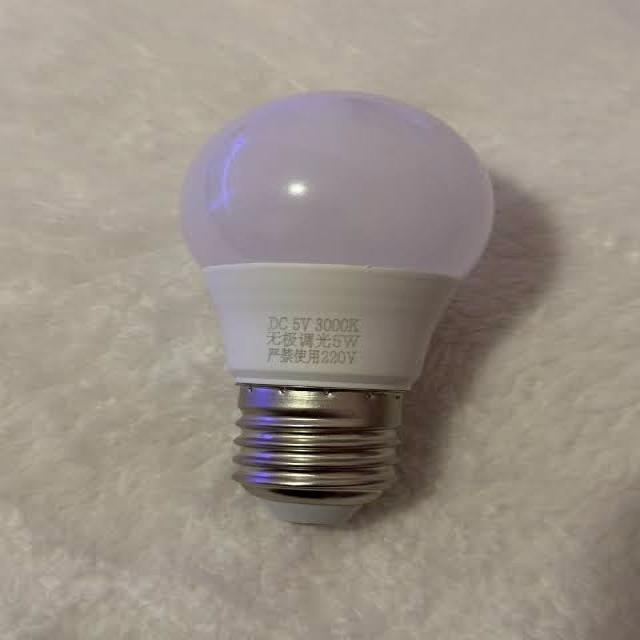bulb: (182, 93, 506, 537)
